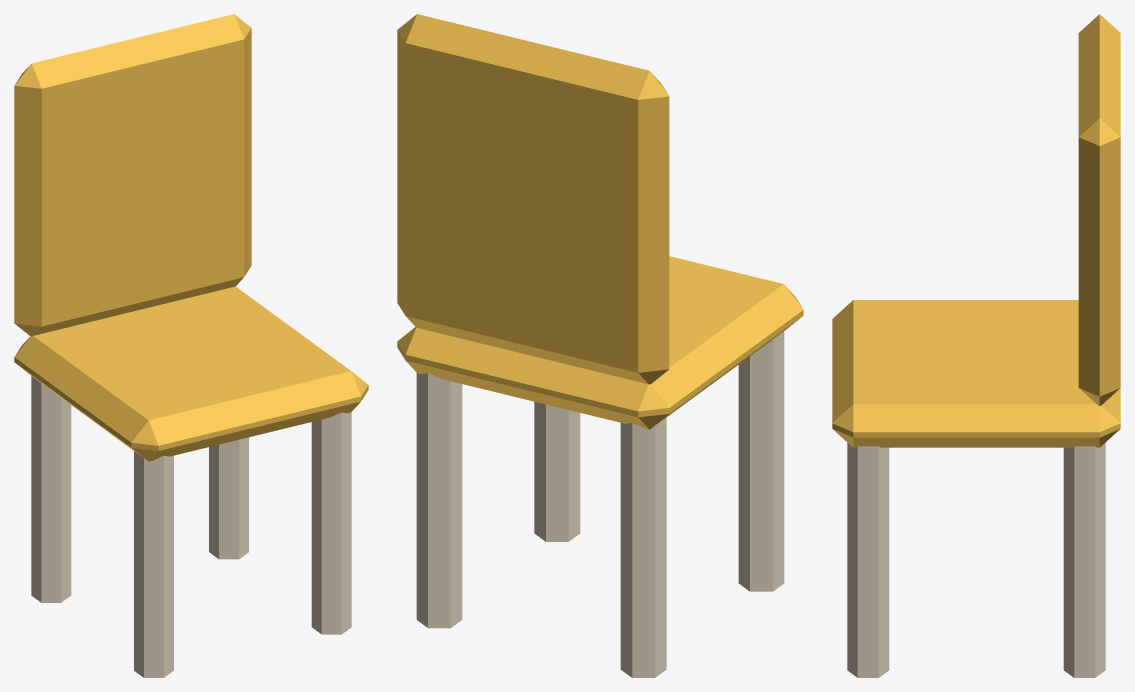
3 renders of one model, left to right at view 1: azimuth 30°, elevation 25°; view 2: azimuth 150°, elevation 25°; view 3: azimuth 270°, elevation 25°, orthographic. The views are drawn at different scales.
Parts seen in each view (by area): view 1: Backrest, Seat, Leg.002, Leg, Leg.001, Leg.003; view 2: Backrest, Seat, Leg.001, Leg.003, Leg, Leg.002; view 3: Seat, Backrest, Leg.002, Leg.003.
Part boxes in pixels (box(x1,y1,x2,y2)): Backrest: box(14, 14, 251, 336); Seat: box(14, 286, 368, 461); Leg.002: box(311, 412, 351, 634); Leg: box(134, 451, 173, 677); Leg.001: box(31, 376, 71, 602); Leg.003: box(209, 437, 248, 559); Backrest: box(397, 14, 669, 384); Seat: box(397, 256, 803, 429); Leg.001: box(620, 417, 666, 677); Leg.003: box(416, 373, 462, 628); Leg: box(738, 331, 784, 591); Leg.002: box(534, 401, 580, 541); Seat: box(832, 300, 1120, 447); Backrest: box(1078, 14, 1120, 405); Leg.002: box(847, 443, 889, 677); Leg.003: box(1063, 443, 1105, 677).
Bounding box in the file's own units: 48 × 102 × 48.
